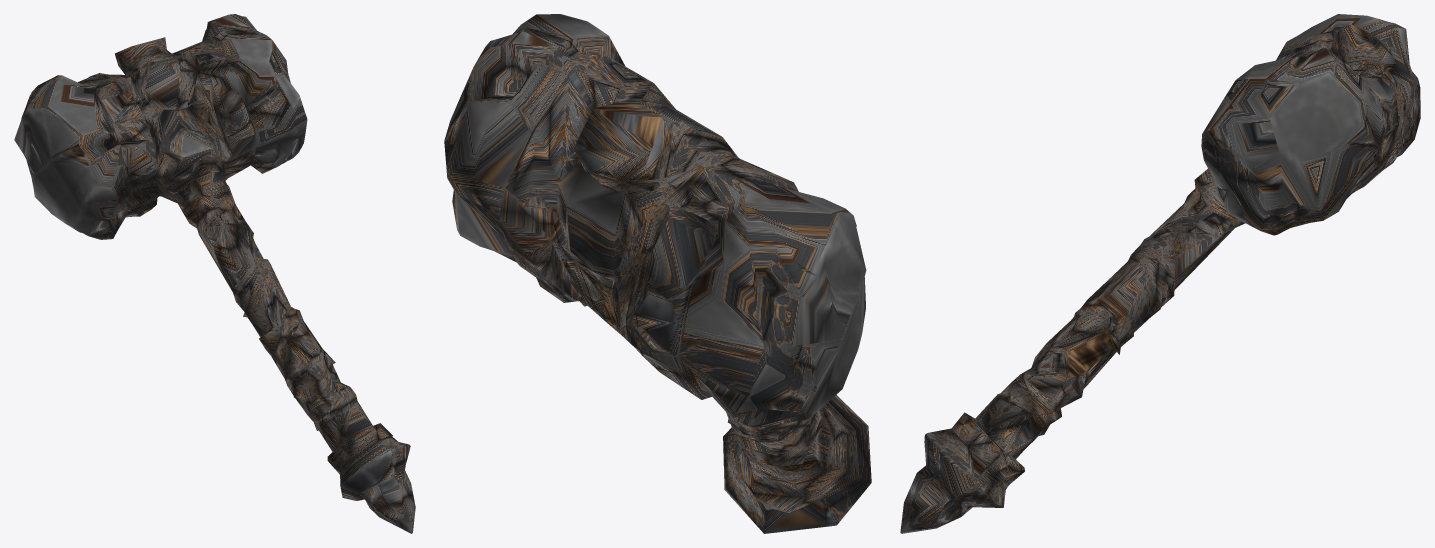
The model's file is w_giants_maul.glb.
The picture shows the model from 3 angles, left to right: view 1: azimuth 30°, elevation 25°; view 2: azimuth 150°, elevation 25°; view 3: azimuth 270°, elevation 25°; orthographic projection. The views are drawn at different scales.
Bounding box in the file's own units: 0.6132 × 0.9963 × 0.9957.
1 material, 1 textured.
